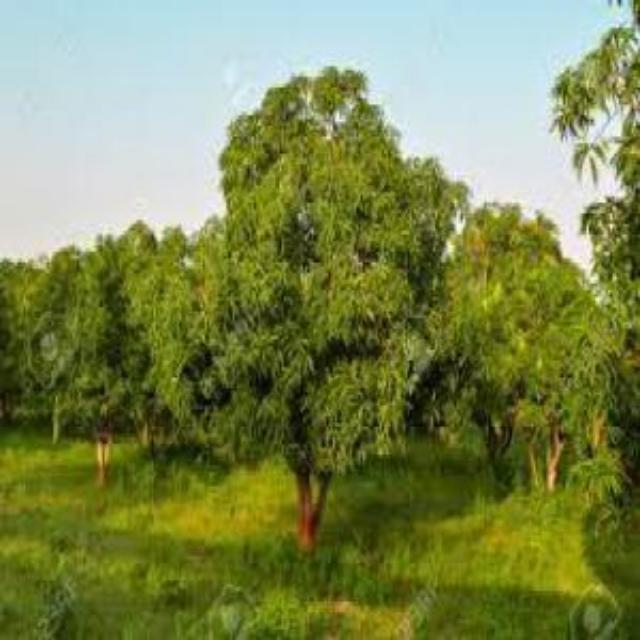tree: (188, 55, 462, 552), (452, 188, 606, 497)
